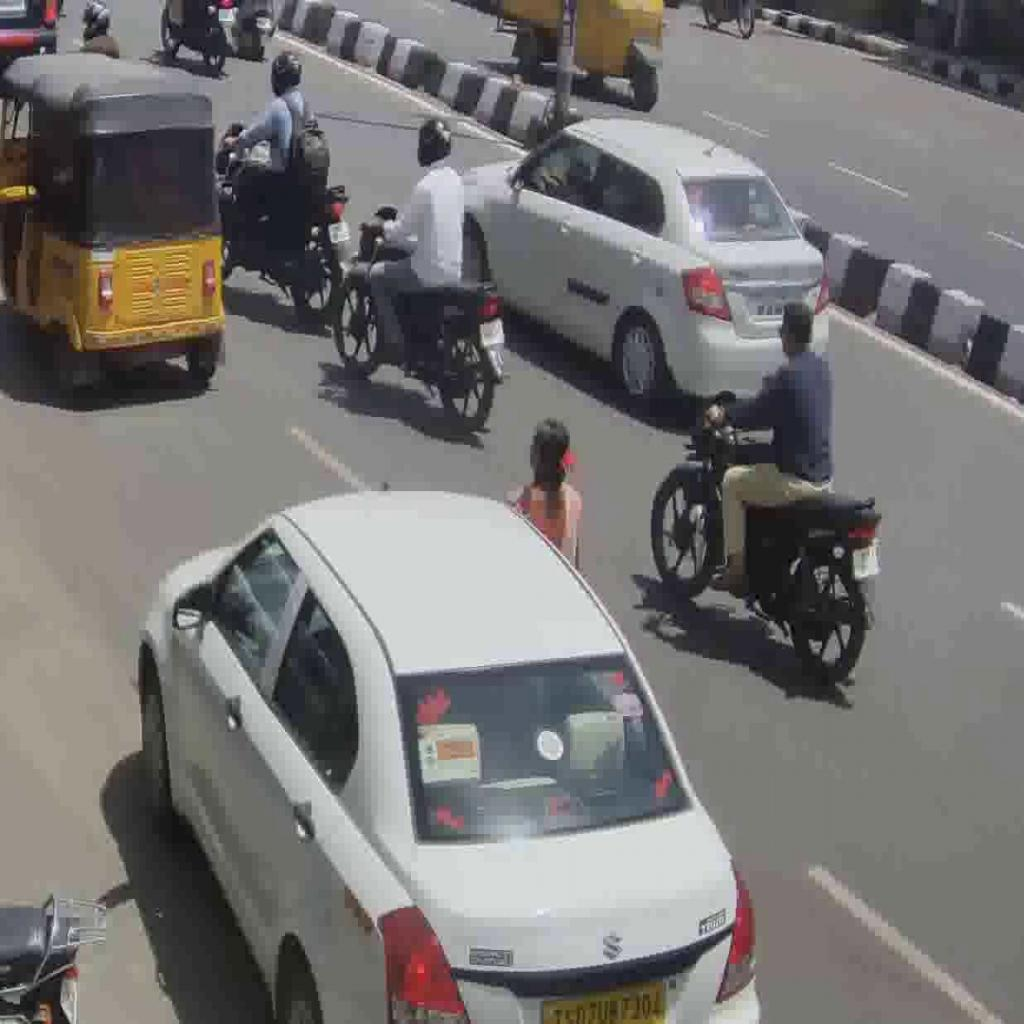helmet: (649, 387, 884, 687), (330, 202, 512, 434), (214, 118, 354, 332)
